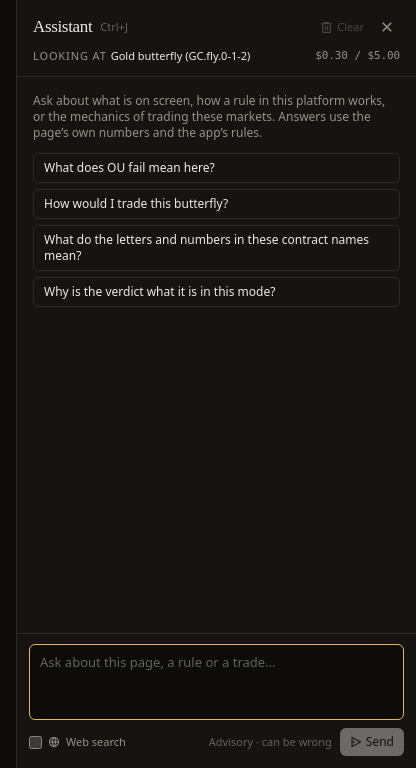
Test: AssistantPanel › shows the not-configured state with a link to Settings
Type "hello" into the text box labelled "Ask about this page". click: (216, 682)
box: [29,644,404,720]
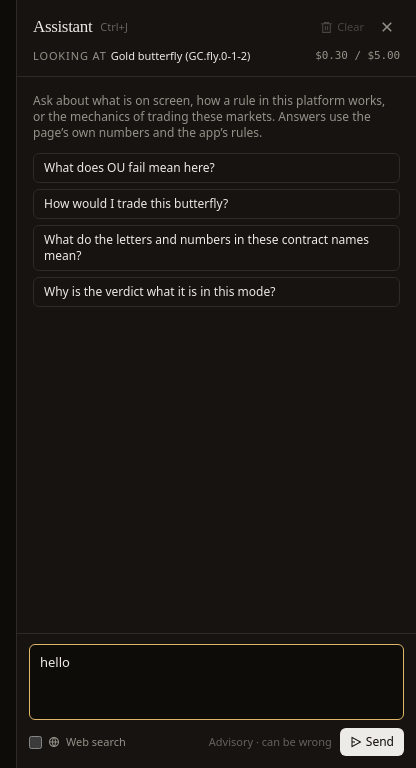
Click the button "Send". click: (372, 742)
box: [340,728,404,756]
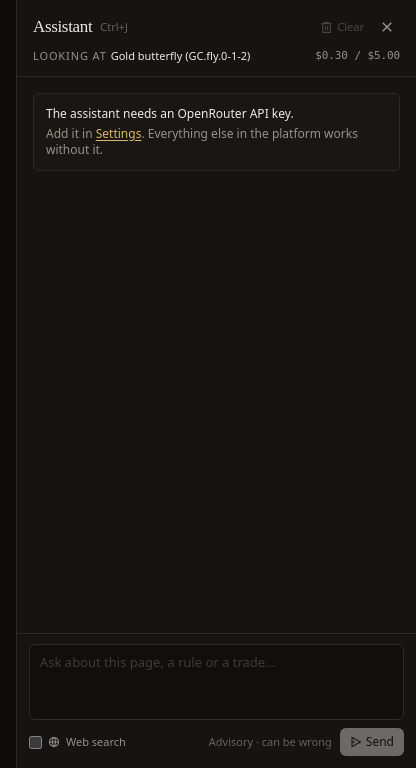
Expected: the text "The assistant needs an OpenRouter API key." is shown, [46,105,294,122]
